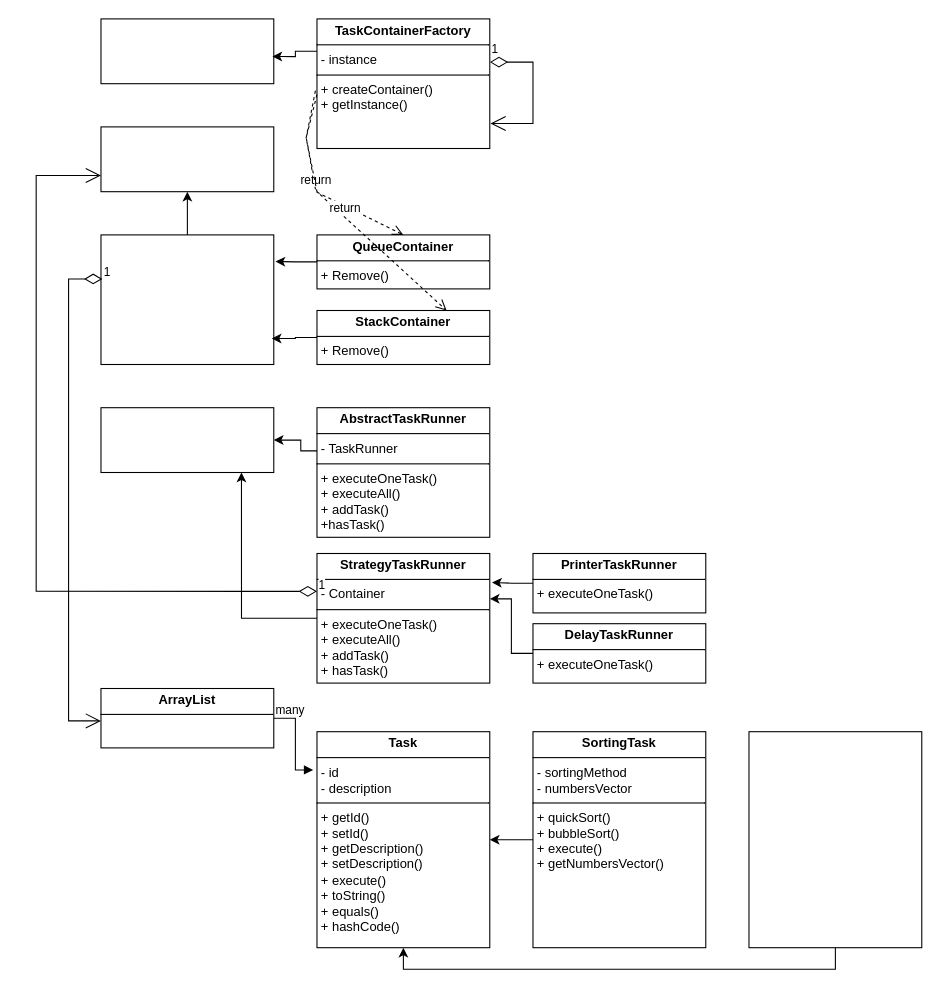
Image size: 941x997. Some labels were removed from this diagram. Each missing label, with the centre of its shape:
"<<Interface>> Container" goes at pixel 187 159.
"<<Interface>> Factory" goes at pixel 187 51.
"<<Interface>> TaskRunner" goes at pixel 187 440.
"MessageTask - message - from - to - date + execute() + toString()" goes at pixel 835 839.
"TaskContainer + tasks + Remove() + add() + size() + isEmpty()" goes at pixel 187 299.
